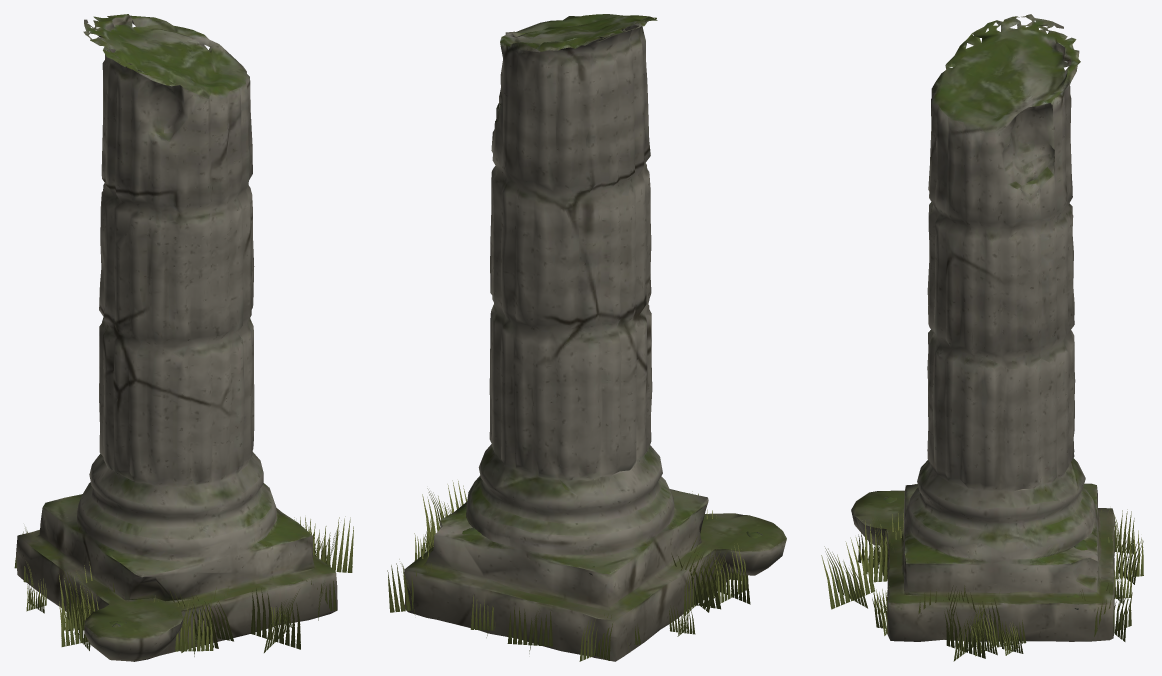
Rendered from ruins_pillar.glb.
3 renders of one model, left to right at view 1: azimuth 30°, elevation 25°; view 2: azimuth 150°, elevation 25°; view 3: azimuth 270°, elevation 25°, orthographic. The views are drawn at different scales.
Parts seen in each view (by area): view 1: ruins_pillar; view 2: ruins_pillar; view 3: ruins_pillar.
Boxes of the visible parts, x1=… form: ruins_pillar: x1=14, y1=14, x2=353, y2=661; ruins_pillar: x1=387, y1=14, x2=786, y2=661; ruins_pillar: x1=821, y1=14, x2=1143, y2=661.
Bounding box in the file's own units: 2.64 × 4.72 × 2.61.
2 materials, 2 textured.
